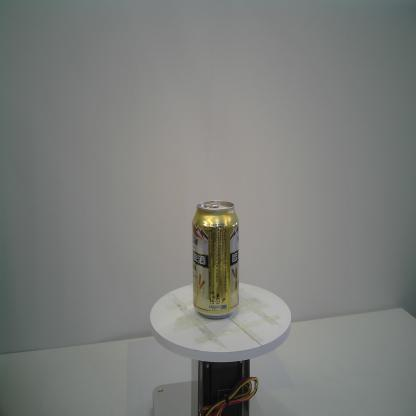Alcohol: (192, 200, 241, 321)
